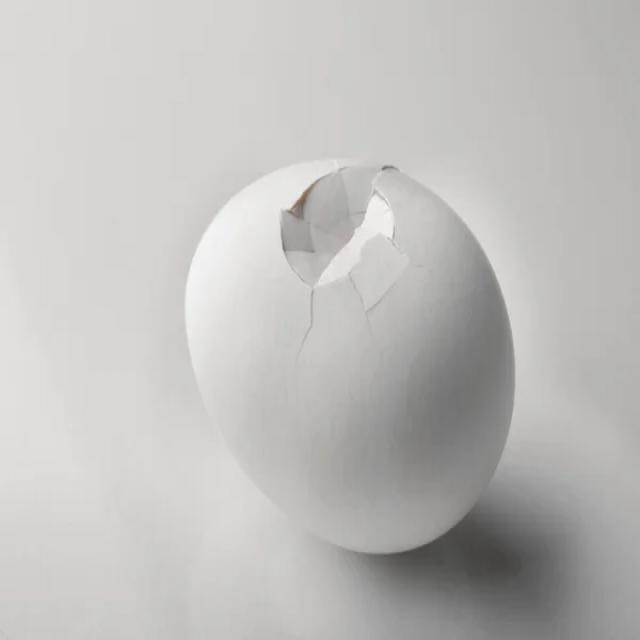biodegradable: (163, 111, 534, 585)
